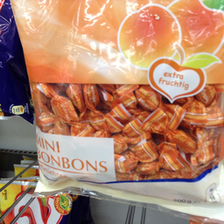candy: (19, 3, 223, 198)
